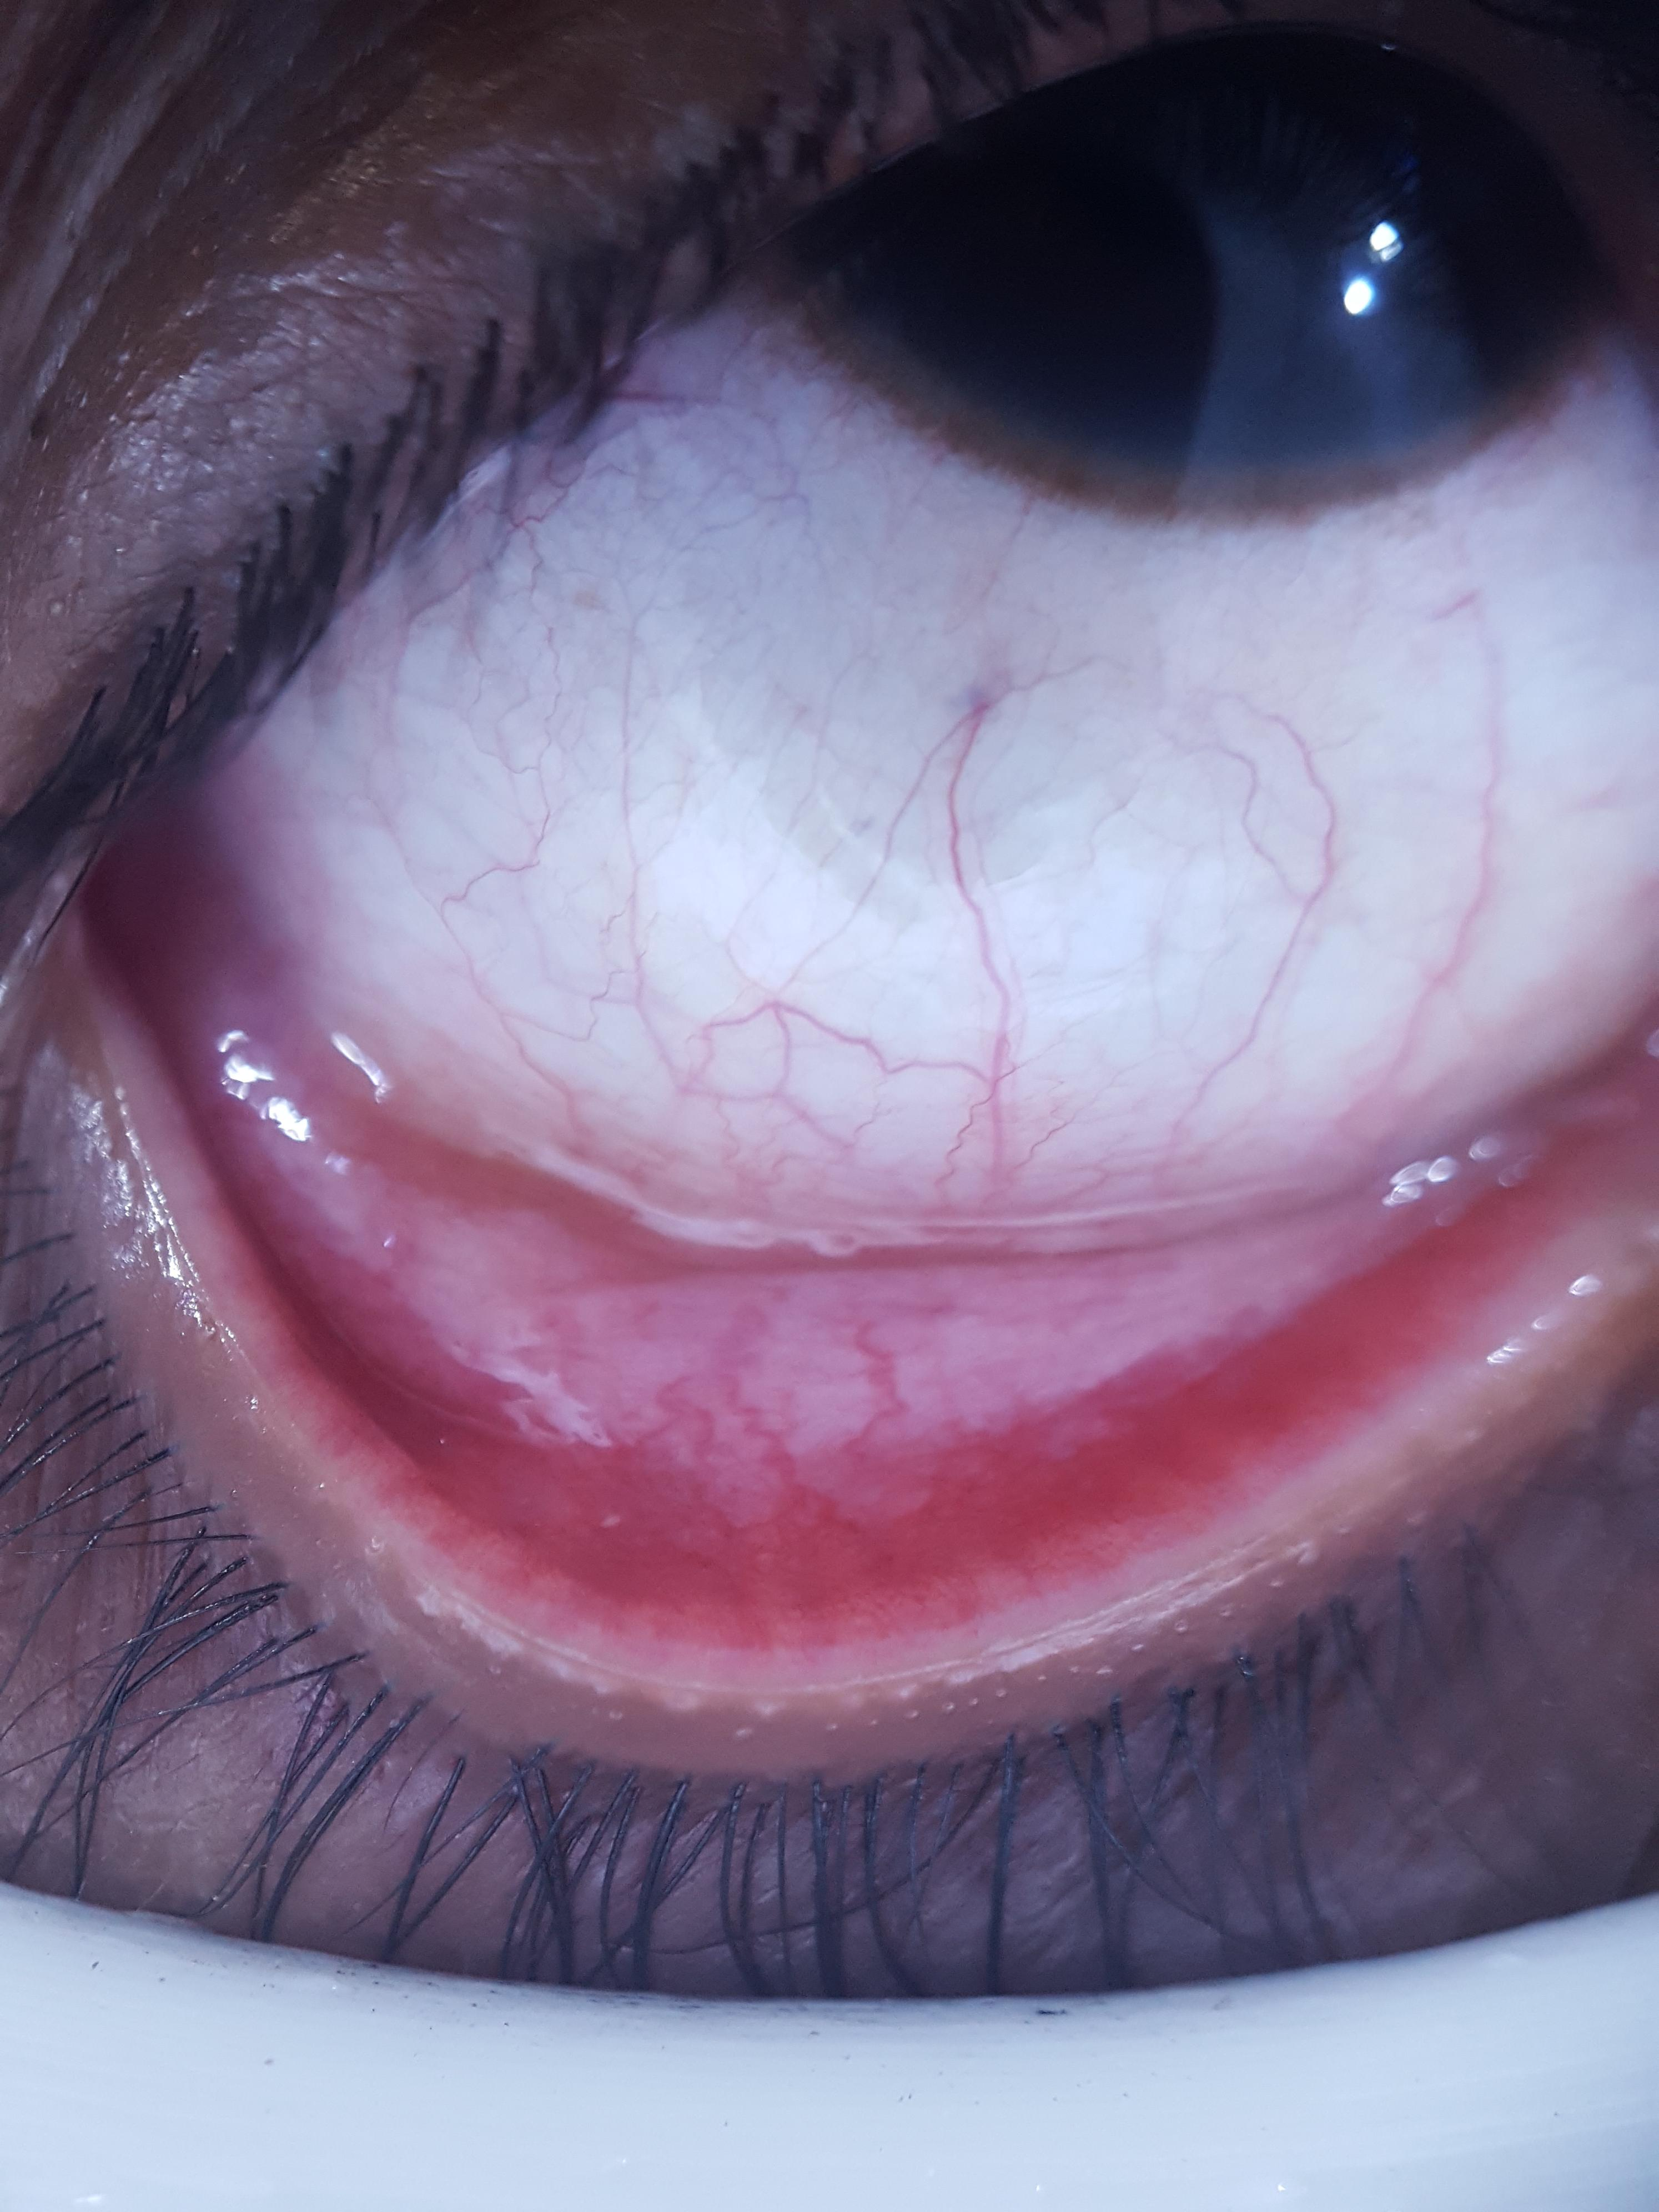forniceal: (164, 892, 1546, 1463)
forniceal_palpebral: (89, 881, 1659, 1651)
palpebral: (94, 888, 1657, 1646)
